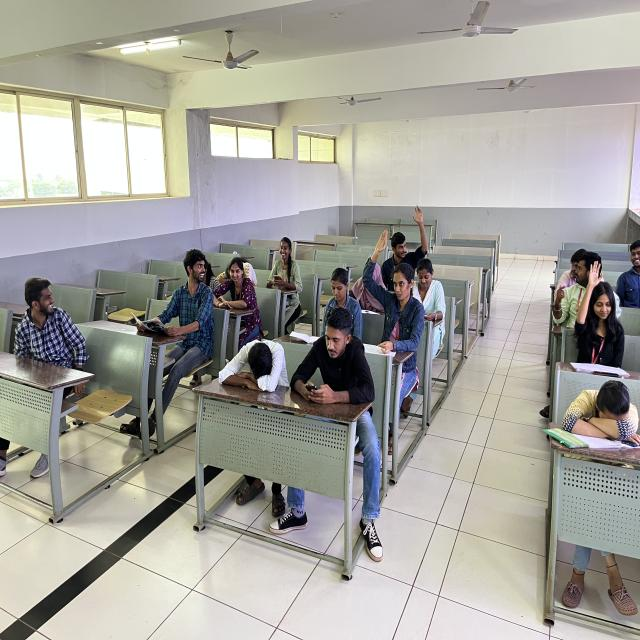Hand Rising: (355, 221, 427, 348), (567, 253, 640, 371), (388, 203, 436, 265)
Sleeping: (555, 368, 640, 454), (218, 321, 290, 403)
Using Phone: (289, 302, 378, 406), (260, 220, 310, 304)
